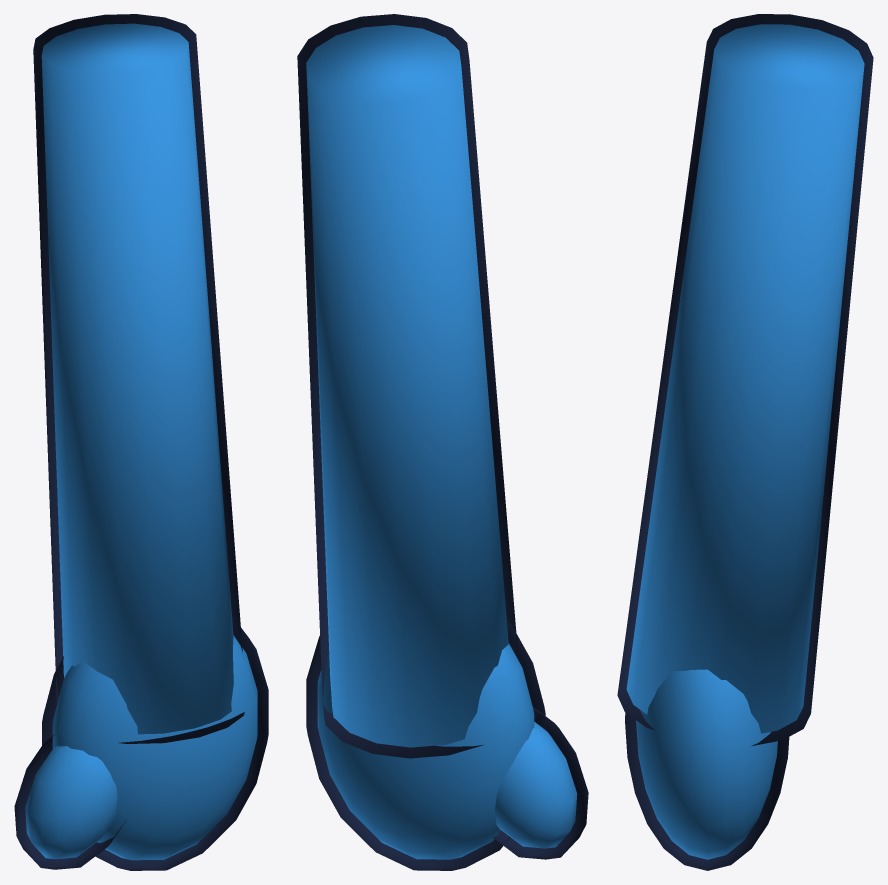
File: RmHandR.fbx
3 views of the same model, side by side, from view 1: azimuth 30°, elevation 25°; view 2: azimuth 150°, elevation 25°; view 3: azimuth 270°, elevation 25° (orthographic). The views are drawn at different scales.
Parts seen in each view (by area): view 1: MittenBody.001; view 2: MittenBody.001; view 3: MittenBody.001.
Boxes of the visible parts, left/top/right/bottom form: MittenBody.001: left=14, top=14, right=268, bottom=870; MittenBody.001: left=297, top=14, right=588, bottom=870; MittenBody.001: left=617, top=14, right=873, bottom=870.
Size of the model in its own units: 0.1309 by 0.4064 by 0.1152.
